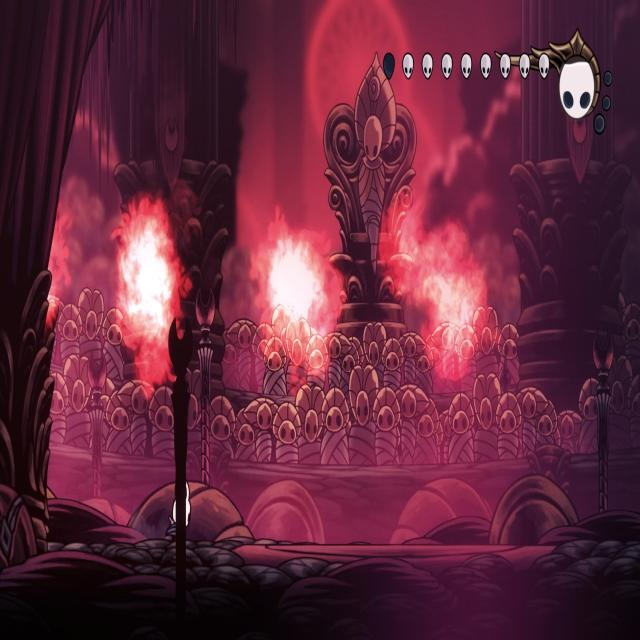Fireball: (388, 210, 488, 379), (111, 194, 192, 397), (250, 211, 341, 382)
Player: (162, 470, 195, 540)
